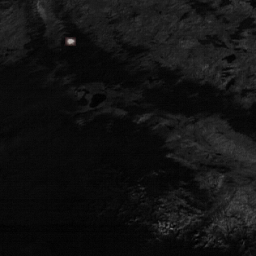Target: (65, 37, 75, 44)
